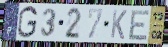2: (63, 7, 82, 41)
3: (40, 7, 58, 38)
7: (87, 7, 104, 40)
E: (127, 9, 151, 42)
G: (17, 5, 39, 40)
K: (109, 9, 128, 41)
